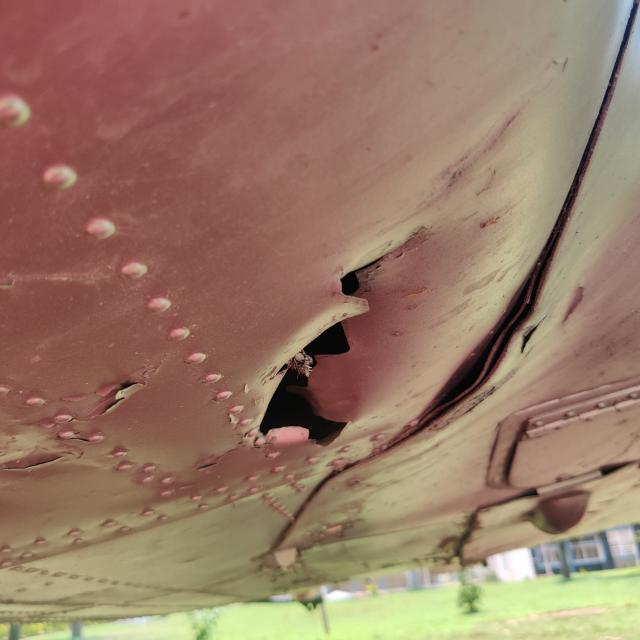crack: (230, 215, 443, 460)
paint-off: (66, 363, 156, 428), (0, 421, 94, 477)
